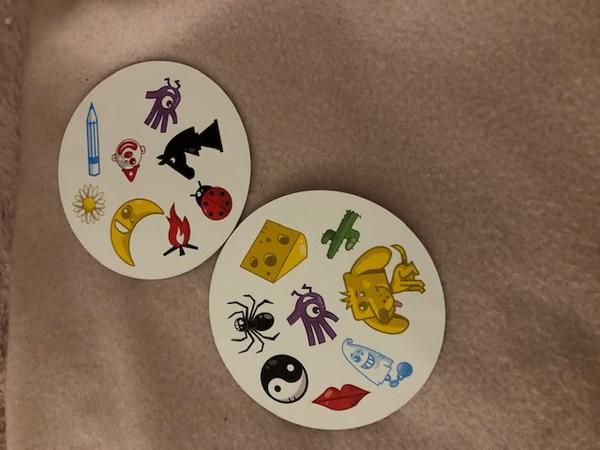araignee: (223, 293, 281, 356)
bouche: (312, 380, 370, 413)
cactus: (319, 209, 364, 263)
cheval: (156, 114, 226, 184)
chien: (340, 242, 423, 333)
clown: (109, 133, 146, 184)
coccinelle: (186, 181, 234, 225)
crayon: (80, 104, 106, 174)
dooble: (283, 282, 342, 350), (141, 75, 183, 137)
fantome: (334, 334, 416, 388)
feu: (157, 200, 201, 266)
fleur: (67, 181, 108, 225)
fromage: (241, 213, 314, 287)
lune: (105, 196, 164, 269)
ying_yang: (259, 353, 309, 404)
